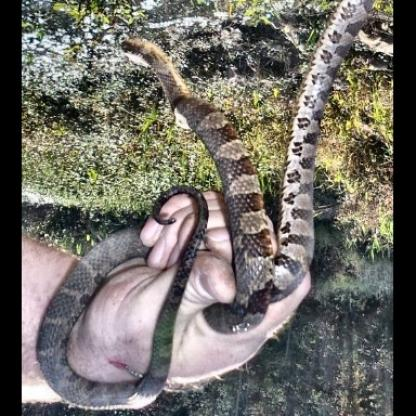Snake: (23, 27, 354, 411)
